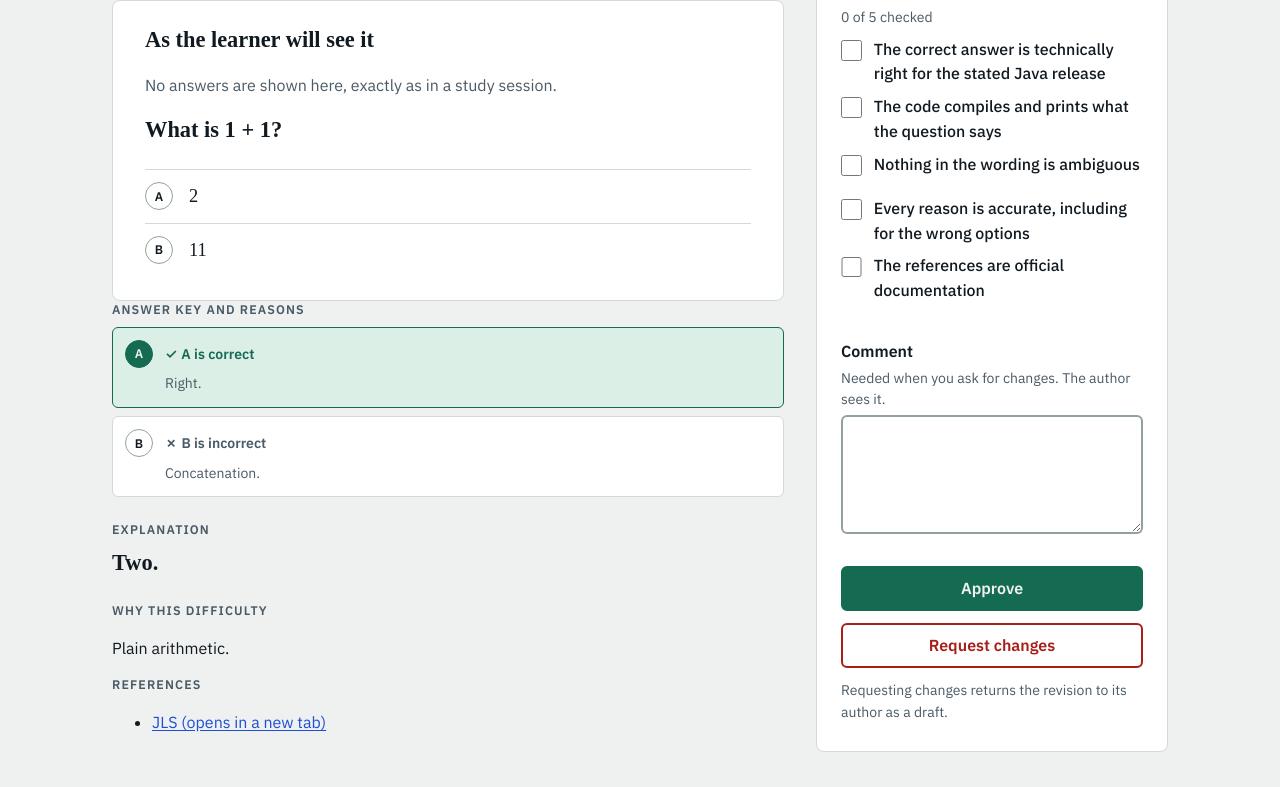
Test case: the review worklist › moves to the next question once this one is approved
(page scrolled)
Click the button "Approve".
click(992, 589)  # box [841,566,1143,611]
(page scrolled)
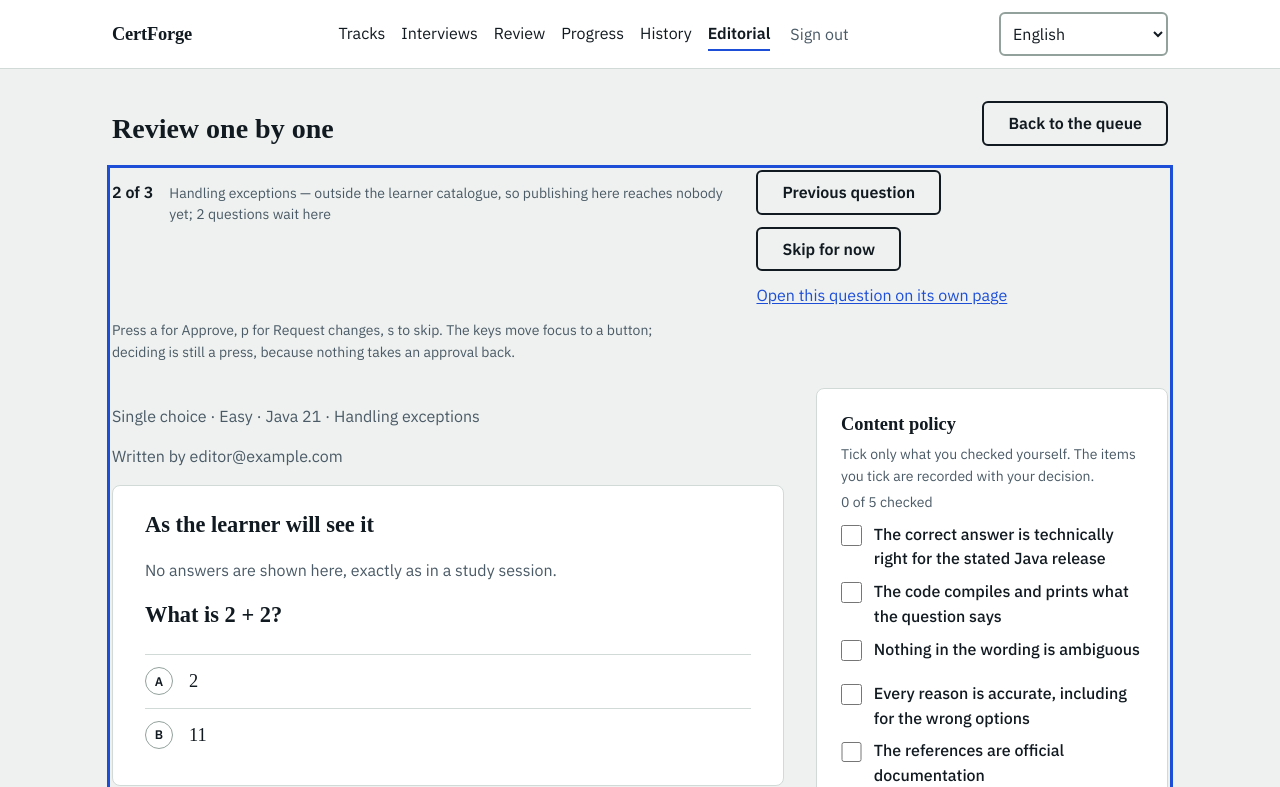
Expected: the text "What is 2 + 2?" is shown, [145,602,282,627]
Expected: the text "2 of 3" is shown, [112,180,153,205]
